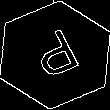P_SE: (25, 24, 85, 86)
